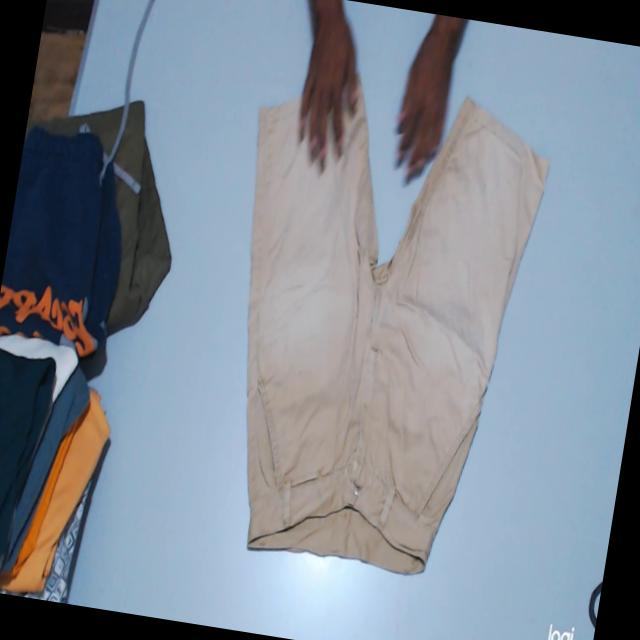new-garment: (247, 99, 548, 574)
